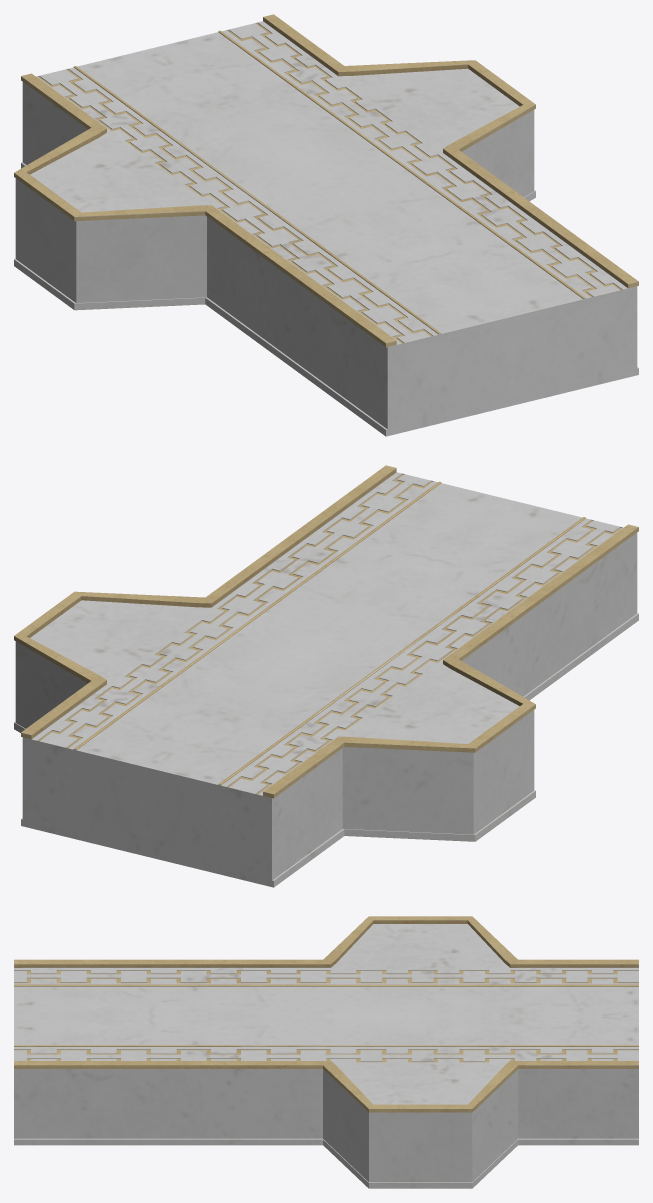
Rendered from Start_Floor2.fbx.
The picture shows the model from 3 angles, top to bottom: view 1: azimuth 30°, elevation 25°; view 2: azimuth 150°, elevation 25°; view 3: azimuth 270°, elevation 25°; orthographic projection. The views are drawn at different scales.
Visible parts, largest first — view 1: StartFloor2; view 2: StartFloor2; view 3: StartFloor2.
Part boxes in pixels (<box>): StartFloor2: <box>14,14,638,436</box>; StartFloor2: <box>14,465,638,887</box>; StartFloor2: <box>14,916,638,1188</box>.
Size of the model in its own units: 365 by 70.5 by 500.
